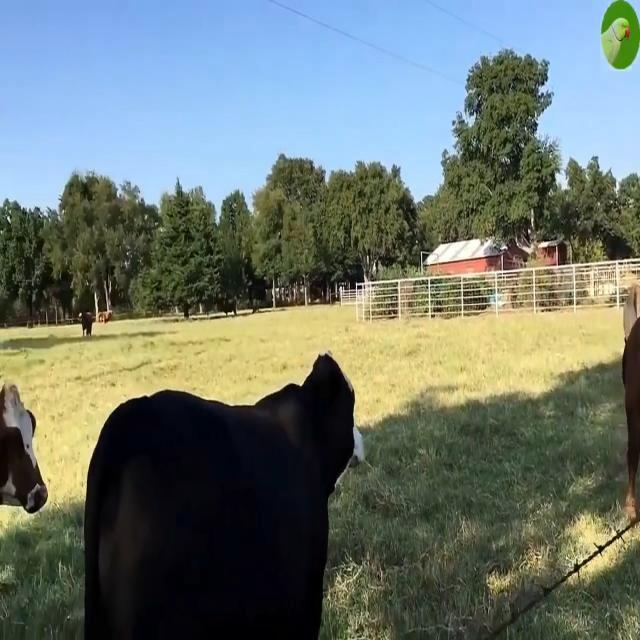cow: (84, 354, 361, 639), (0, 384, 48, 512)
